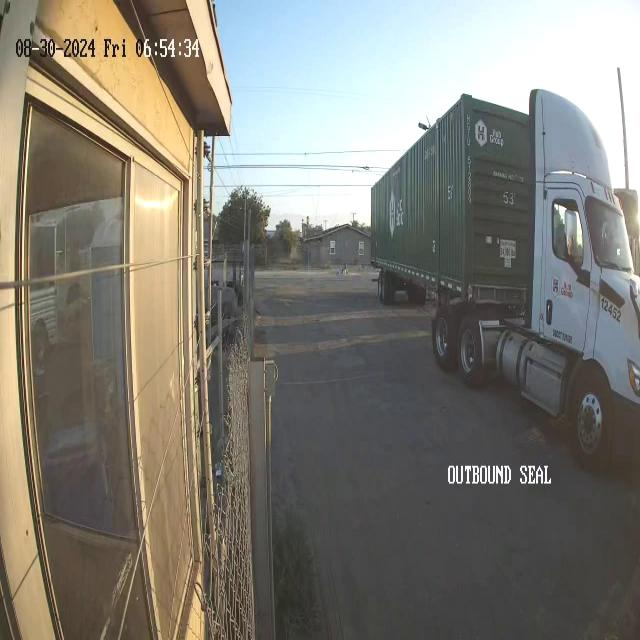CONTAINER: (369, 86, 534, 311)
